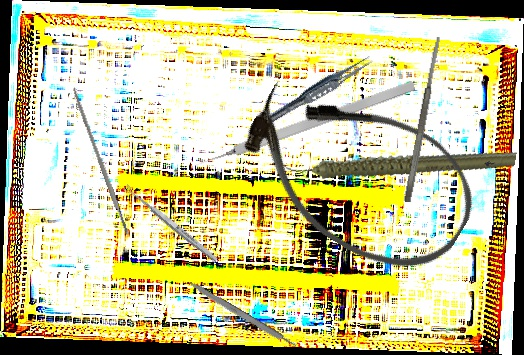Cannula: (221, 54, 496, 295)
Handpiece: (281, 107, 518, 216)
Hook Surgical: (193, 80, 416, 171)
Scalpel Handle: (70, 86, 130, 236), (186, 279, 298, 351)
Spatula Surgical: (402, 36, 444, 203)
Surgical Spoon: (123, 183, 219, 264)
Tissue Forceps: (260, 50, 377, 131)
